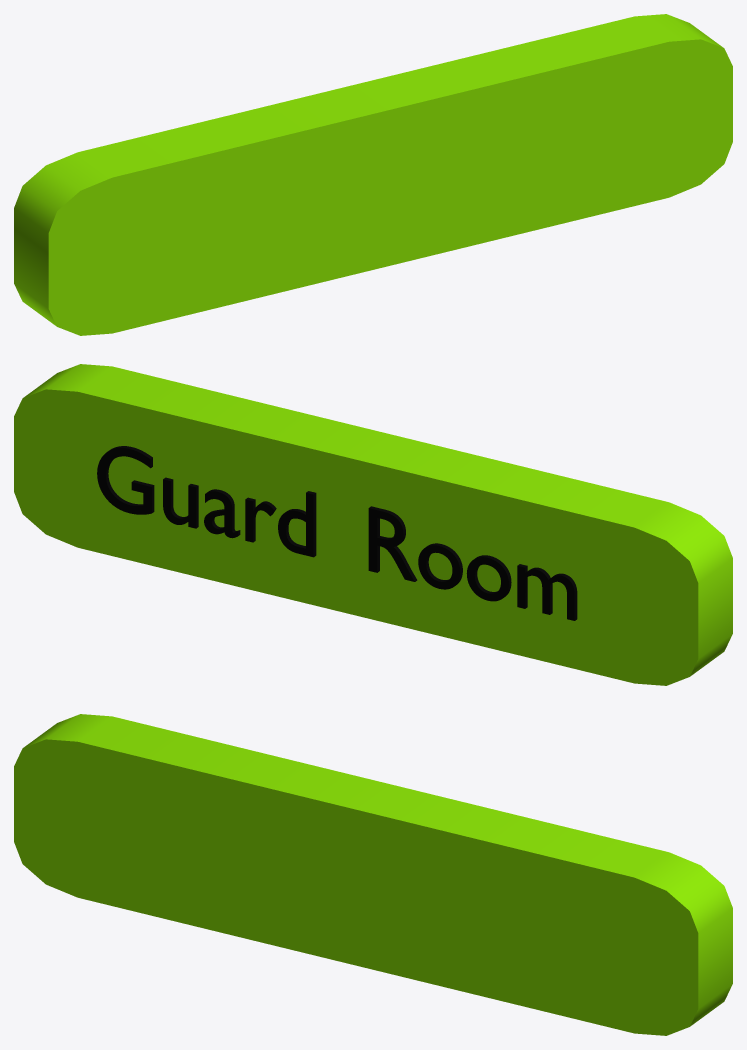
The model's file is GuardRoom.fbx.
The picture shows the model from 3 angles, top to bottom: view 1: azimuth 30°, elevation 25°; view 2: azimuth 150°, elevation 25°; view 3: azimuth 330°, elevation 25°; orthographic projection.
Parts seen in each view (by area): view 1: Gardiyan Odası; view 2: Gardiyan Odası; view 3: Gardiyan Odası.
Boxes of the visible parts, x1,y1,x2,y2 form: Gardiyan Odası: [14, 14, 732, 335]; Gardiyan Odası: [14, 364, 732, 685]; Gardiyan Odası: [14, 714, 732, 1035].
Size of the model in its own units: 200 by 43.55 by 18.77.
